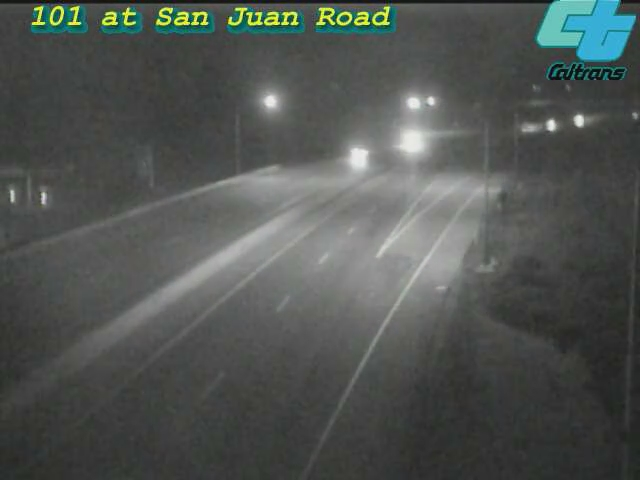vehicle: (332, 132, 382, 182), (383, 116, 433, 166), (555, 96, 605, 146), (525, 101, 575, 151), (501, 102, 551, 152)
